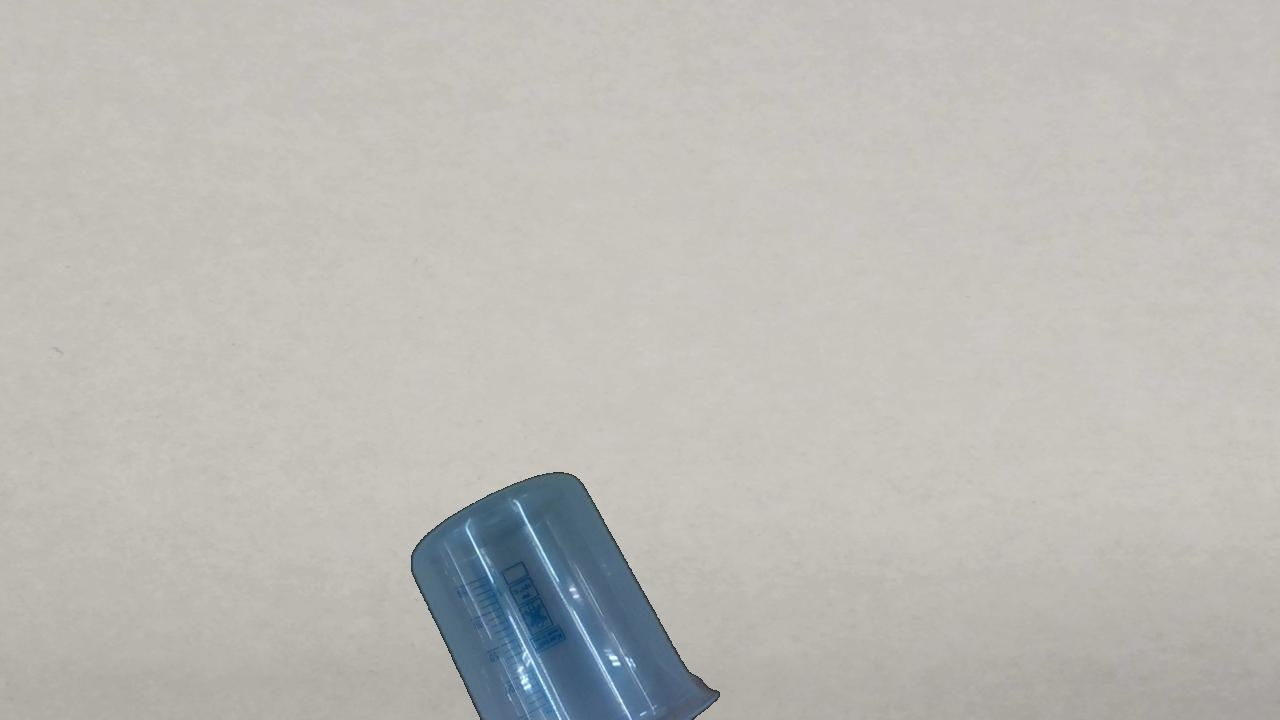becker: (408, 471, 723, 716)
